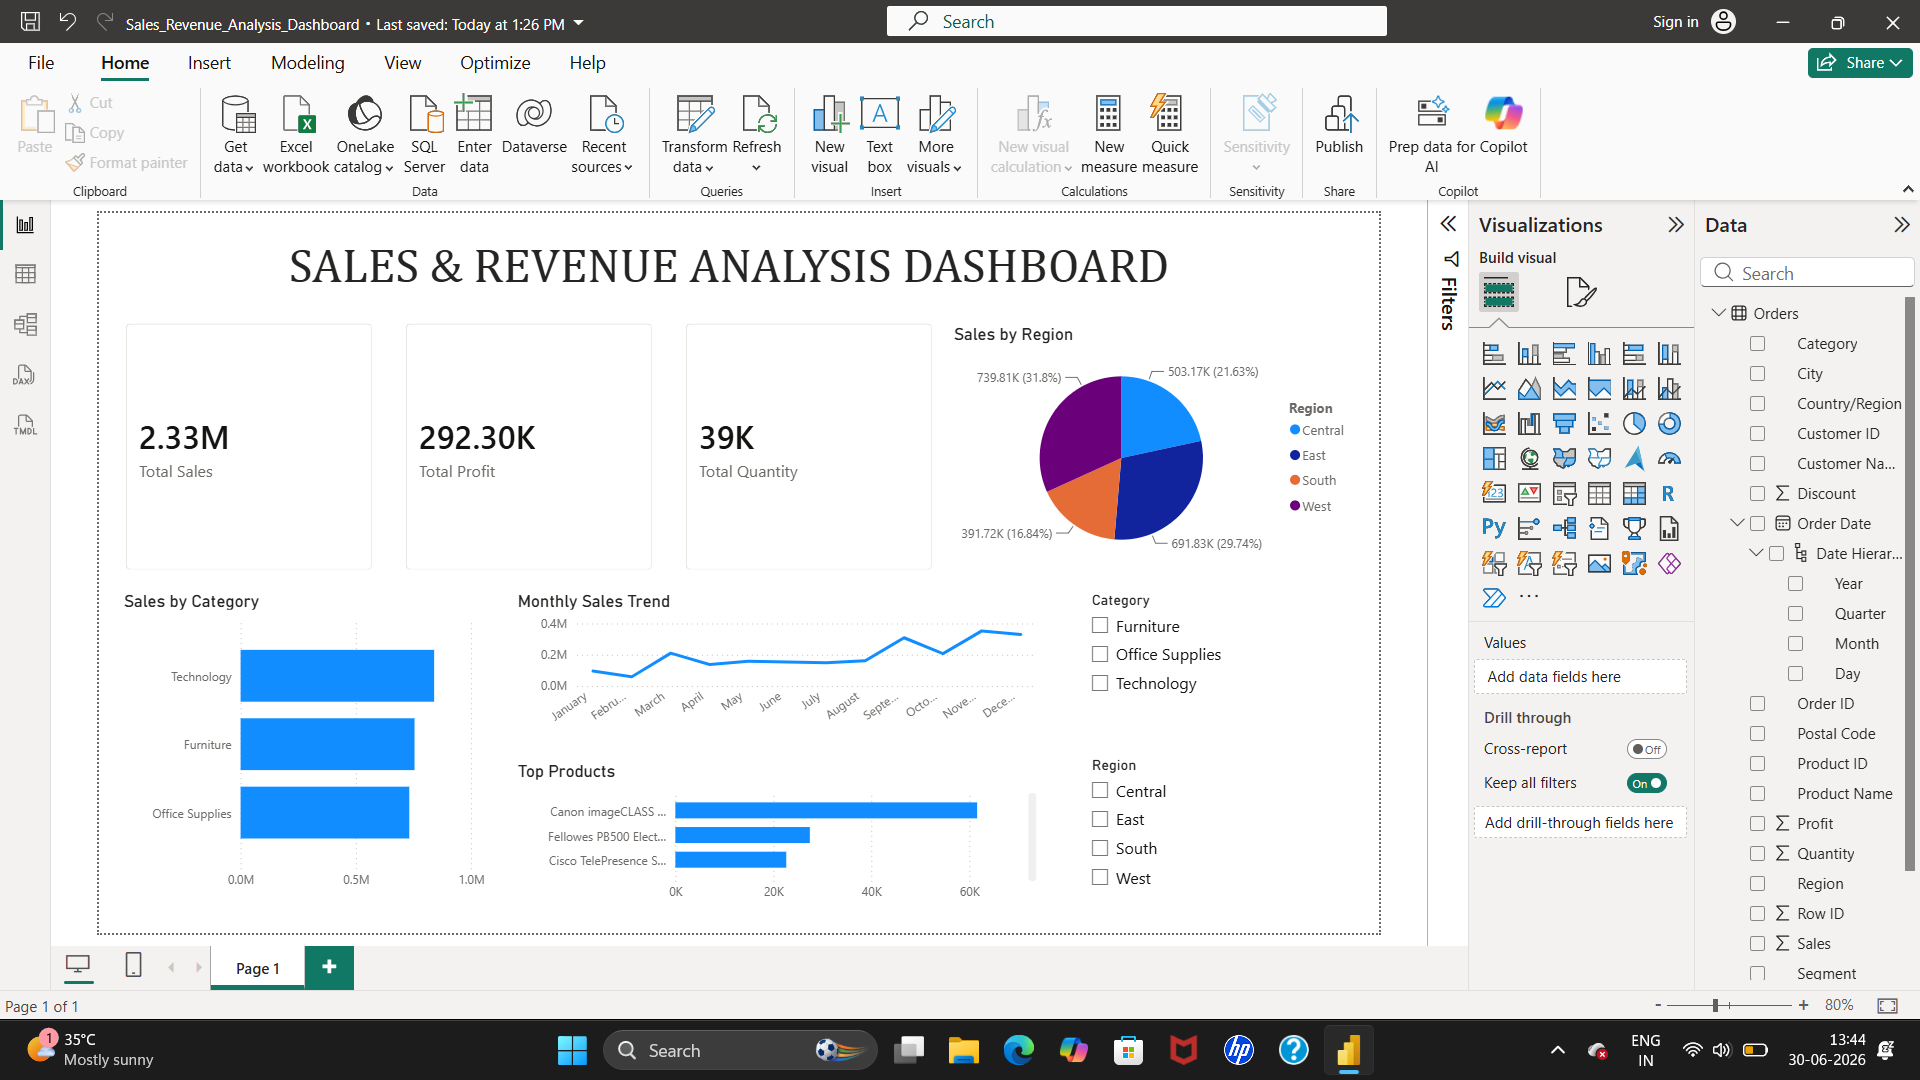

The page's visual inventory and layout, read from the dashboard file:
{"tool":"powerbi","page":{"name":"Page 1","canvas":[1280,720],"ordinal":0},"visuals":[{"type":"cardVisual","fields":{"Data":["Sum(Orders.Sales)"]},"box":[10,93.8,280,280],"z":0},{"type":"cardVisual","fields":{"Data":["Sum(Orders.Profit)"]},"box":[290,93.8,280,280],"z":1000},{"type":"cardVisual","fields":{"Data":["Sum(Orders.Quantity)"]},"box":[570,93.8,280,280],"z":2000},{"type":"clusteredBarChart","title":"Sales by Category","fields":{"Category":["Orders.Category"],"Y":["Sum(Orders.Sales)"]},"box":[19.6,377.9,369.3,320.4],"z":3000},{"type":"lineChart","title":"Monthly Sales Trend","fields":{"Category":["Orders.Order Date.Variation.Date Hierarchy.Month"],"Y":["Sum(Orders.Sales)"]},"box":[413.8,377.5,528.8,143.8],"z":4000},{"type":"pieChart","title":"Sales by Region","fields":{"Y":["Sum(Orders.Sales)"],"Series":["Orders.Region"]},"box":[850,111.2,410,248.8],"z":5000},{"type":"clusteredBarChart","title":"Top Products","fields":{"Category":["Orders.Product Name"],"Y":["Sum(Orders.Sales)"]},"box":[413.8,547.5,528.8,150],"z":6000},{"type":"slicer","fields":{"Values":["Orders.Category"]},"box":[980,373.8,280,135],"z":7000},{"type":"slicer","fields":{"Values":["Orders.Region"]},"box":[980,538.8,280,158.8],"z":8000},{"type":"textbox","box":[29.3,18.3,1230.2,75.8],"z":9000}]}

Visuals, with their boxes on the page's 1280x720 design canvas (x1, y1, x2, y2). These are canvas units, not pixel positions in the 1920x1080 screenshot, which may show the page scaled, cropped or inside an application window:
cardVisual - Sum(Orders.Sales): 10, 94, 290, 374
cardVisual - Sum(Orders.Profit): 290, 94, 570, 374
cardVisual - Sum(Orders.Quantity): 570, 94, 850, 374
"Sales by Category" clusteredBarChart: 20, 378, 389, 698
"Monthly Sales Trend" lineChart: 414, 378, 943, 521
"Sales by Region" pieChart: 850, 111, 1260, 360
"Top Products" clusteredBarChart: 414, 548, 943, 698
slicer - Orders.Category: 980, 374, 1260, 509
slicer - Orders.Region: 980, 539, 1260, 698
textbox: 29, 18, 1260, 94
